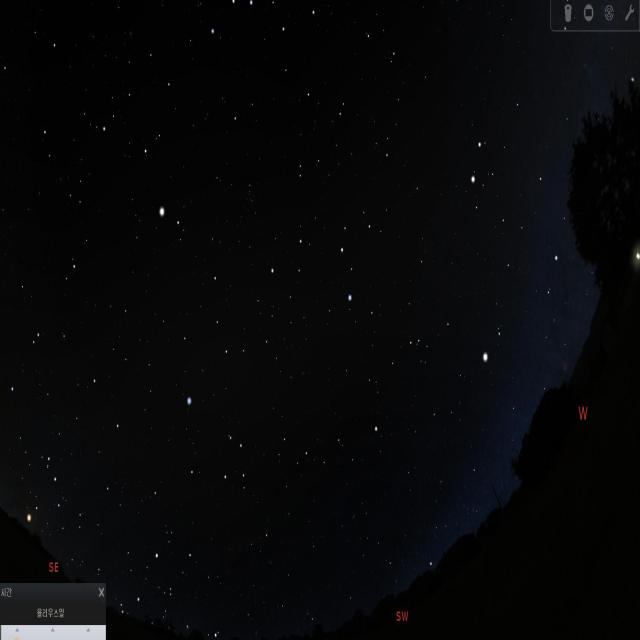bootes: (115, 38, 201, 238)
canis_minor: (477, 309, 508, 384)
gemini: (461, 117, 581, 280)
leo: (266, 210, 402, 320)
